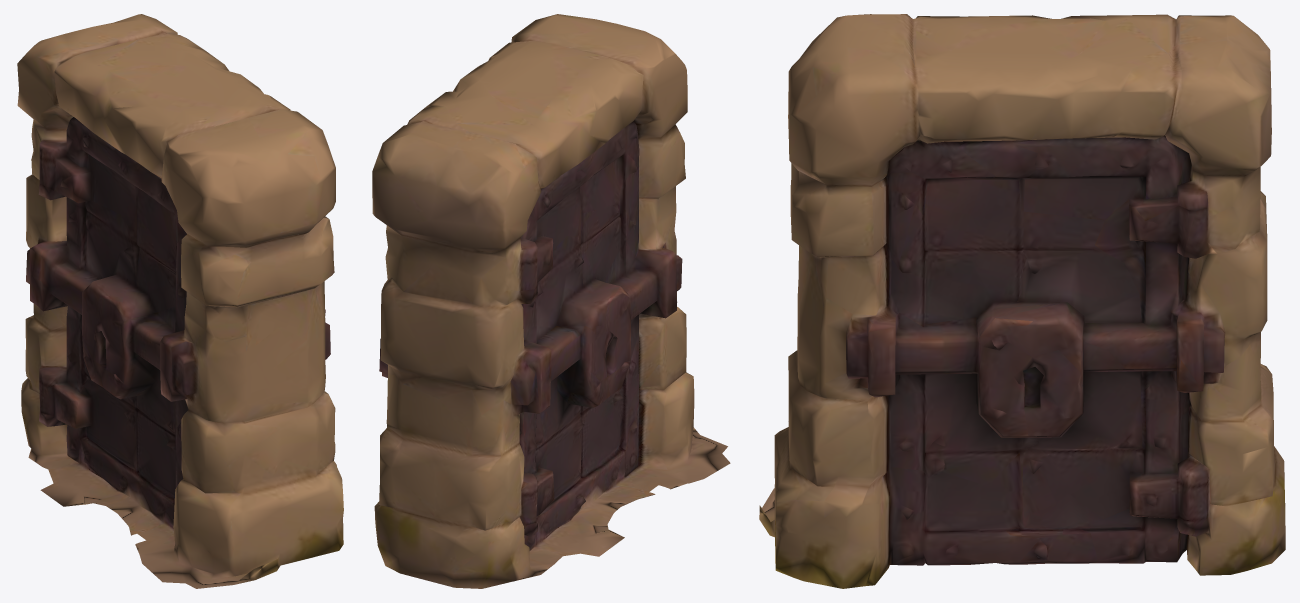
The model's file is model-prop-strongroom-door-01.glb.
3 renders of one model, left to right at view 1: azimuth 30°, elevation 25°; view 2: azimuth 150°, elevation 25°; view 3: azimuth 270°, elevation 25°, orthographic. The views are drawn at different scales.
Visible parts, largest first — view 1: tripo_node_575d5058-2bbf-4477-83ac-5fb1b83d5be1; view 2: tripo_node_575d5058-2bbf-4477-83ac-5fb1b83d5be1; view 3: tripo_node_575d5058-2bbf-4477-83ac-5fb1b83d5be1.
Part boxes in pixels (bbox=[...]): tripo_node_575d5058-2bbf-4477-83ac-5fb1b83d5be1: bbox=[17, 14, 343, 588]; tripo_node_575d5058-2bbf-4477-83ac-5fb1b83d5be1: bbox=[372, 14, 730, 588]; tripo_node_575d5058-2bbf-4477-83ac-5fb1b83d5be1: bbox=[759, 14, 1285, 588].
Size of the model in its own units: 0.9613 by 2 by 1.91.
1 material, 1 textured.
